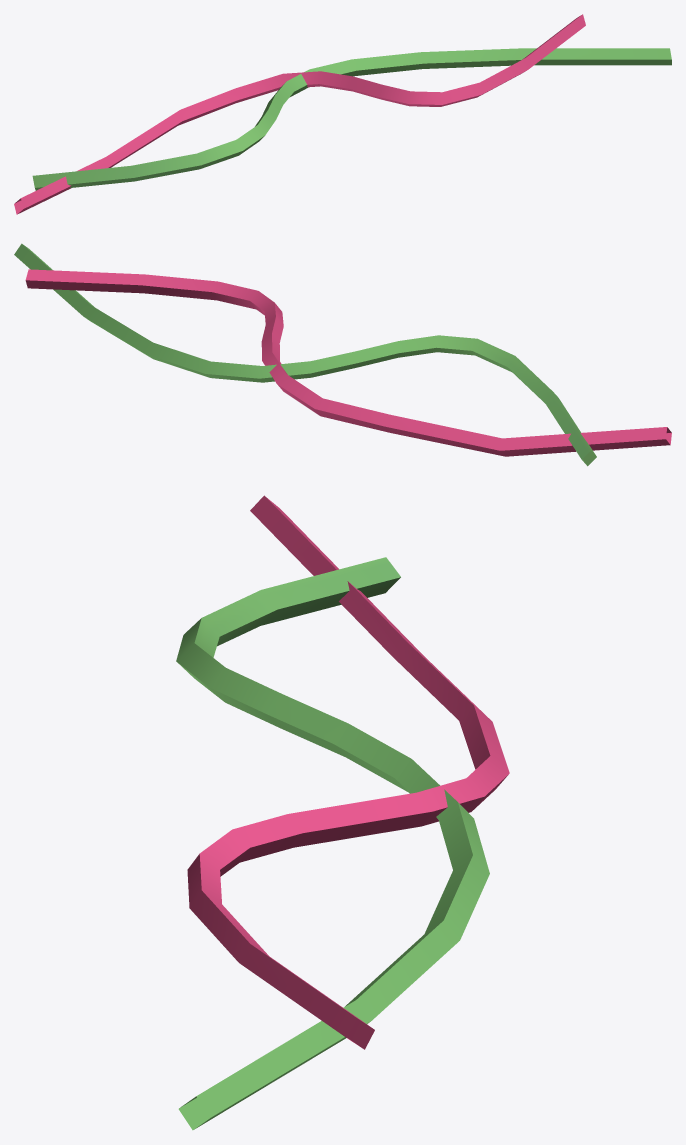
File: Wire_Relic.fbx
The picture shows the model from 3 angles, top to bottom: view 1: azimuth 30°, elevation 25°; view 2: azimuth 150°, elevation 25°; view 3: azimuth 270°, elevation 25°; orthographic projection. The views are drawn at different scales.
Parts seen in each view (by area): view 1: Relic_Mouse; view 2: Relic_Mouse; view 3: Relic_Mouse.
Boxes of the visible parts, box(x1,y1,x2,y2) form: Relic_Mouse: box(14, 14, 671, 214); Relic_Mouse: box(14, 243, 671, 466); Relic_Mouse: box(176, 495, 509, 1130).
Bounding box in the file's own units: 1.82 × 0.1507 × 0.4123.
